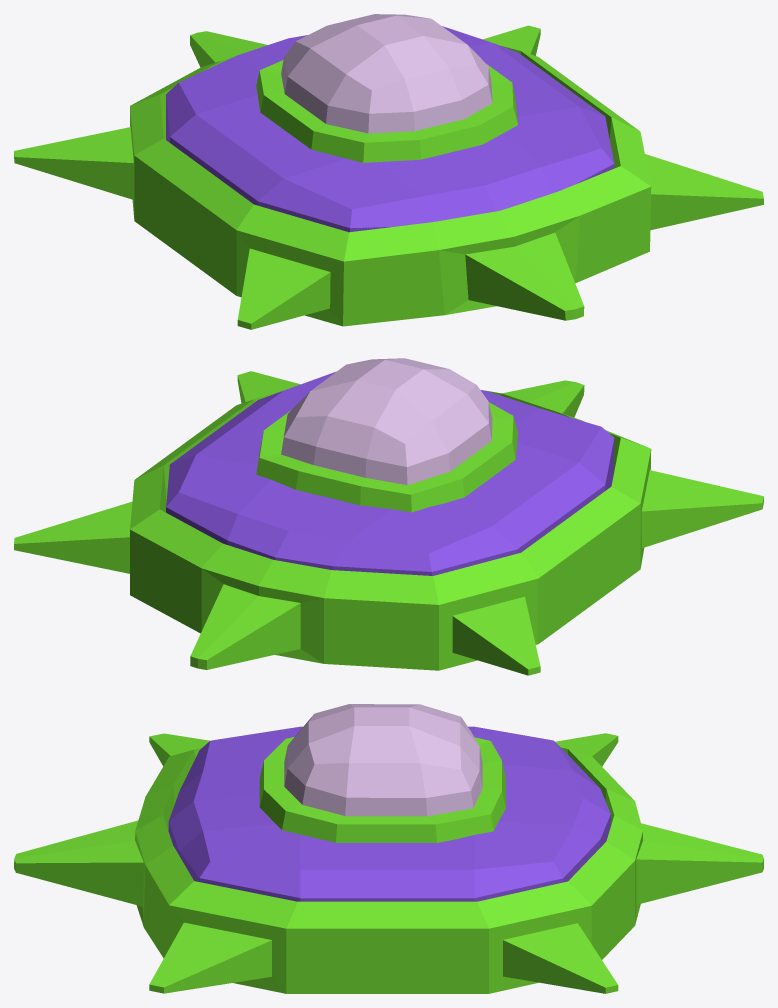
The model's file is ovni.fbx.
3 renders of one model, top to bottom at view 1: azimuth 30°, elevation 25°; view 2: azimuth 150°, elevation 25°; view 3: azimuth 270°, elevation 25°, orthographic.
Visible parts, largest first — view 1: ovni; view 2: ovni; view 3: ovni.
Boxes of the visible parts, x1,y1,x2,y2 form: ovni: [14, 14, 763, 329]; ovni: [14, 358, 763, 675]; ovni: [14, 704, 763, 993].
Bounding box in the file's own units: 10.72 × 3.52 × 13.34.
